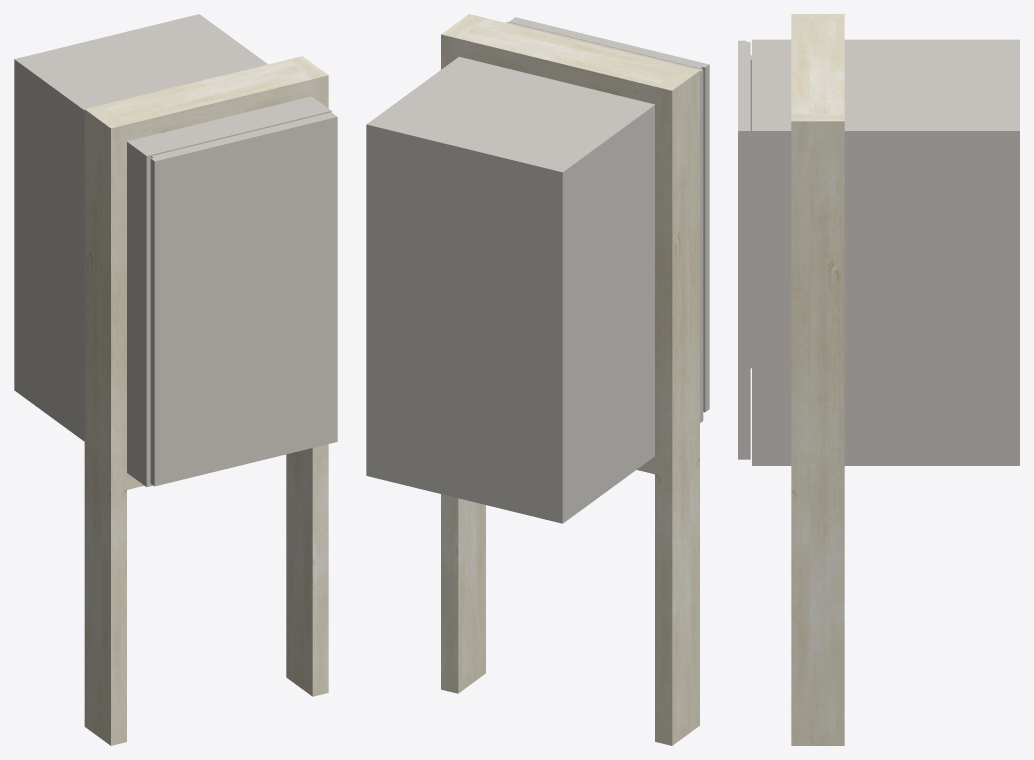
The model's file is de-boxstand_whitepine.fbx.
3 renders of one model, left to right at view 1: azimuth 30°, elevation 25°; view 2: azimuth 150°, elevation 25°; view 3: azimuth 270°, elevation 25°, orthographic. The views are drawn at different scales.
Visible parts, largest first — view 1: de-boxstand-whitepine; view 2: de-boxstand-whitepine; view 3: de-boxstand-whitepine.
Part boxes in pixels (x1,y1,x2,y2): de-boxstand-whitepine: (14, 14, 337, 745); de-boxstand-whitepine: (366, 14, 709, 745); de-boxstand-whitepine: (738, 14, 1019, 745).
Bounding box in the file's own units: 40.6 × 110 × 45.
3 materials, 2 textured.
